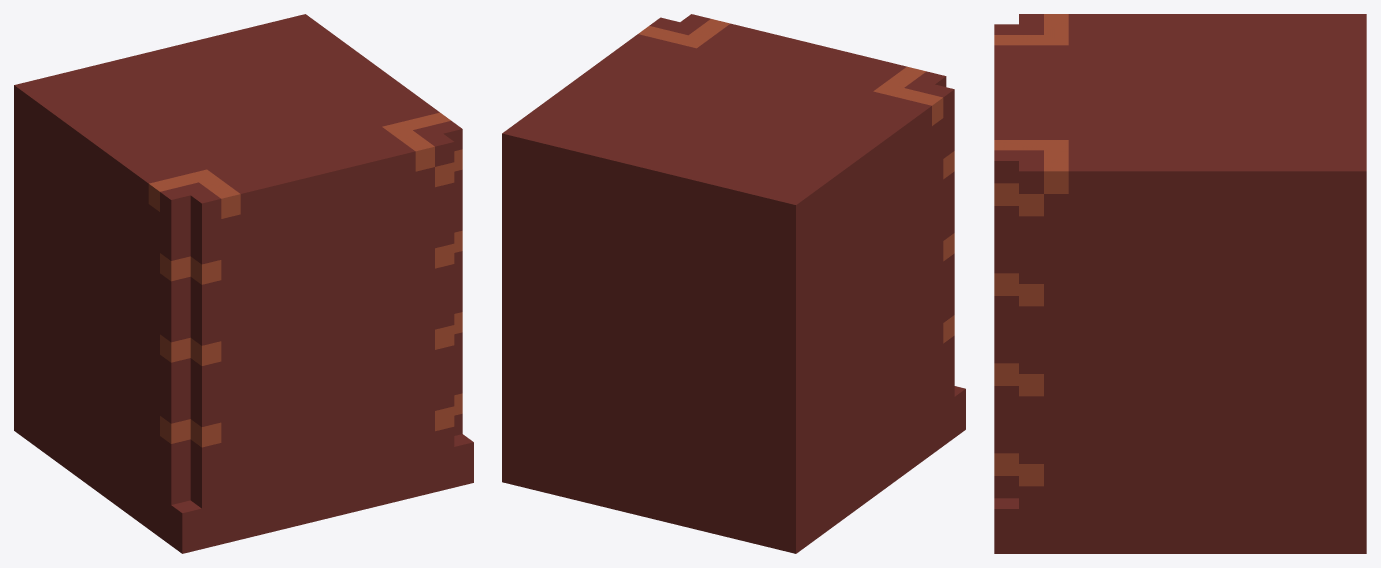
The model's file is dungeon_b_a_outer_wall_segment_b.obj.
The picture shows the model from 3 angles, left to right: view 1: azimuth 30°, elevation 25°; view 2: azimuth 150°, elevation 25°; view 3: azimuth 270°, elevation 25°; orthographic projection. The views are drawn at different scales.
Bounding box in the file's own units: 1.5 × 1.7 × 1.5.
Materials: 1 (1 with a texture image).
